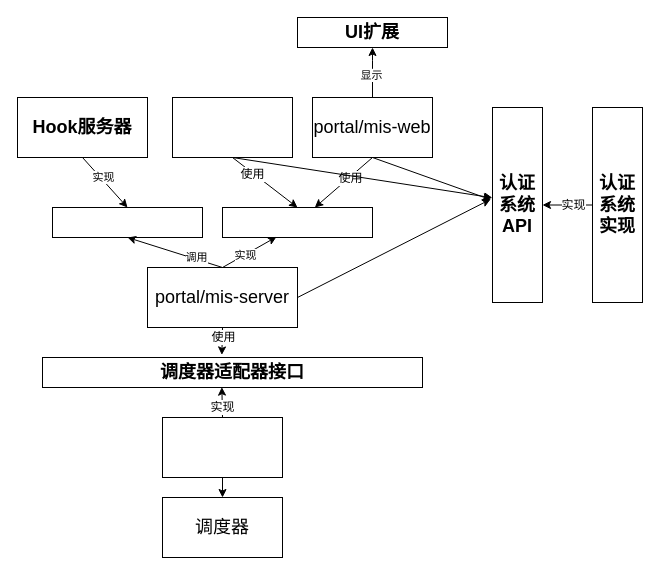
Some shapes in this 660 by 575 pixel diagram are drawn without their labels. The shapes that lost their labels are listed below. From the top down, each one's centre as x and y in pixels, then its label:
the point at 232,127: API调用者
the point at 127,222: SCOW Hook
the point at 297,222: SCOW API
the point at 222,447: 调度器适配器
